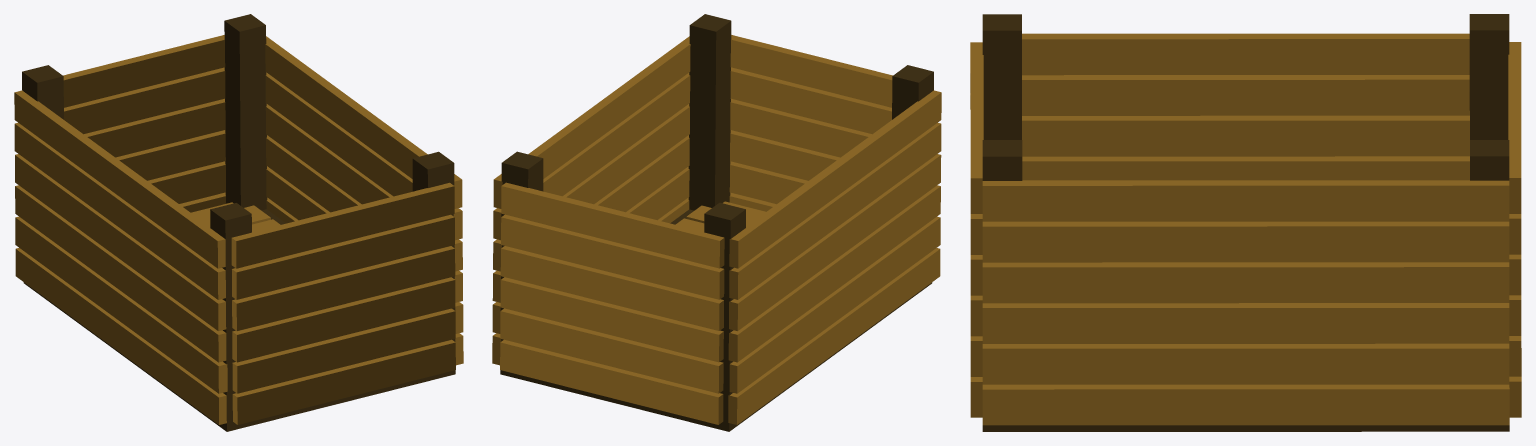
Rendered from gajbica.FBX.
The picture shows the model from 3 angles, left to right: view 1: azimuth 30°, elevation 25°; view 2: azimuth 150°, elevation 25°; view 3: azimuth 270°, elevation 25°; orthographic projection. The views are drawn at different scales.
Visible parts, largest first — view 1: Box1595, Box1596; view 2: Box1595, Box1596; view 3: Box1595, Box1596.
Part boxes in pixels (box(x1,y1,x2,y2)): Box1595: box(14, 35, 463, 424); Box1596: box(22, 14, 455, 431); Box1595: box(492, 35, 941, 424); Box1596: box(500, 14, 933, 431); Box1595: box(970, 33, 1521, 425); Box1596: box(982, 14, 1509, 431).
Bounding box in the file's own units: 34.89 × 28.97 × 52.24.
